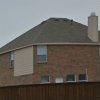Chimney: (82, 9, 100, 53)
